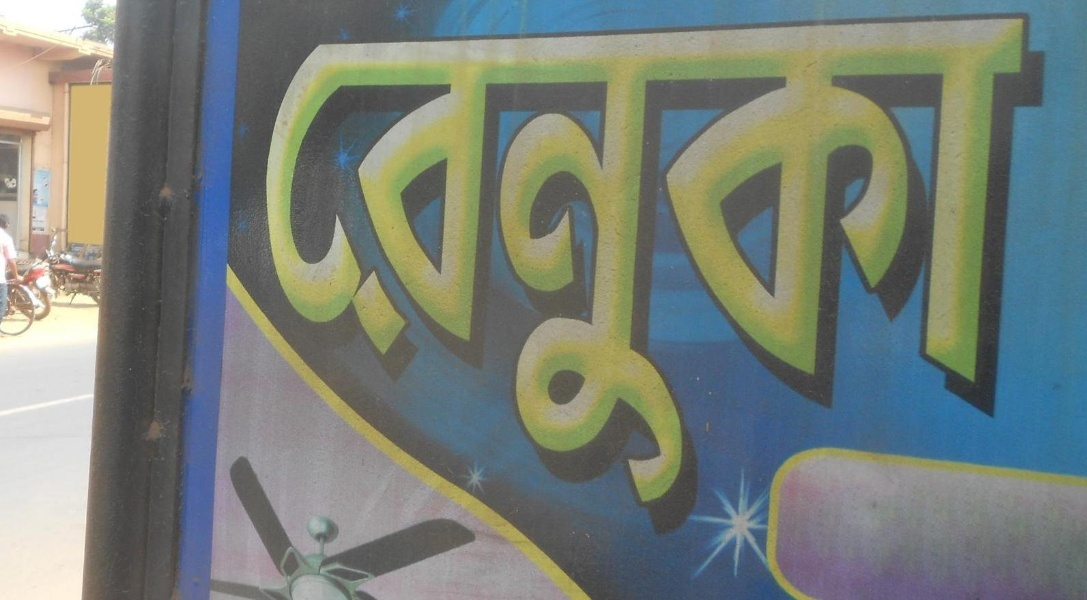text: (241, 10, 256, 585), (257, 10, 272, 585), (273, 10, 288, 585), (289, 10, 304, 585), (305, 10, 320, 585), (321, 10, 336, 585), (337, 10, 352, 585), (353, 10, 368, 585), (369, 10, 384, 585), (385, 10, 400, 585), (401, 10, 416, 585), (417, 10, 432, 585), (433, 10, 448, 585), (449, 10, 464, 585), (465, 10, 480, 585), (481, 10, 496, 585), (497, 10, 512, 585), (513, 10, 528, 585), (529, 10, 544, 585), (545, 10, 560, 585), (561, 10, 576, 585), (577, 10, 592, 585), (593, 10, 608, 585), (609, 10, 624, 585), (625, 10, 640, 585), (641, 10, 656, 585), (657, 10, 672, 585), (673, 10, 688, 585), (689, 10, 704, 585), (705, 10, 720, 585), (721, 10, 736, 585), (737, 10, 752, 585), (753, 10, 768, 585), (769, 10, 784, 585), (785, 10, 800, 585), (801, 10, 816, 585), (817, 10, 832, 585), (833, 10, 848, 585), (849, 10, 864, 585), (865, 10, 880, 585), (881, 10, 896, 585), (897, 10, 912, 585), (913, 10, 928, 585), (929, 10, 944, 585), (945, 10, 960, 585), (961, 10, 976, 585), (977, 10, 992, 585), (993, 10, 1008, 585), (1009, 10, 1024, 585), (1025, 10, 1040, 585), (1041, 10, 1056, 585), (230, 10, 240, 585), (1057, 10, 1059, 585)
